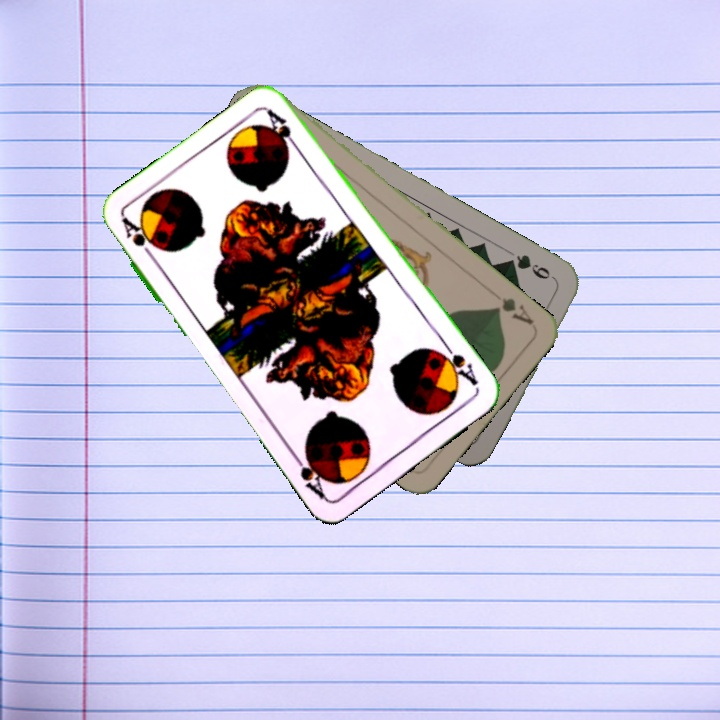G9: (502, 250, 559, 284)
GA: (487, 287, 536, 328)
SA: (432, 339, 481, 389), (118, 213, 162, 265)
